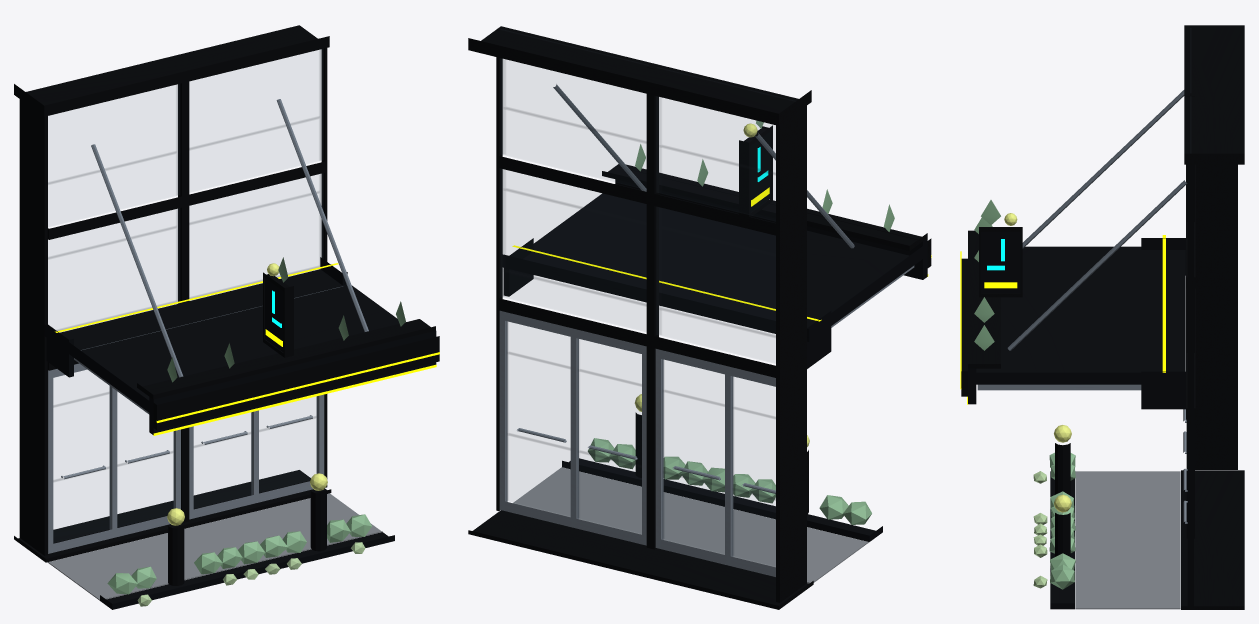
3 views of the same model, side by side, from view 1: azimuth 30°, elevation 25°; view 2: azimuth 150°, elevation 25°; view 3: azimuth 270°, elevation 25° (orthographic). The views are drawn at different scales.
Parts seen in each view (by area): view 1: Frame, Canopy, Fascia_Gunmetal, Threshold_Mat, Door_Stiles, Hedge_Edge, Terrace_Kerb, Fascia_Slate, Tie_Rods, Court_Line_LED, Ball_Bollards, Blade_Frame (+9 smaller); view 2: Frame, Canopy, Door_Stiles, Threshold_Mat, Fascia_Gunmetal, Hedge_Edge, Terrace_Kerb, Glass_Upper_10, Fascia_Slate, Glass_Upper_00, Blade_Frame, Tie_Rods (+10 smaller); view 3: Frame, Canopy, Threshold_Mat, Fascia_Gunmetal, Tie_Rods, Blade_Core, Hedge_Edge, Ball_Bollards, Canopy_Soffit, Terrace_Kerb, Court_Line_LED, Hedge_Edge_Light (+3 smaller).
Boxes of the visible parts, x1,y1,x2,y2 form: Frame: [14, 25, 331, 562]; Canopy: [44, 257, 399, 412]; Fascia_Gunmetal: [137, 319, 439, 430]; Threshold_Mat: [47, 493, 382, 600]; Door_Stiles: [48, 363, 324, 553]; Hedge_Edge: [107, 514, 372, 594]; Terrace_Kerb: [100, 532, 394, 609]; Fascia_Slate: [149, 330, 436, 434]; Tie_Rods: [91, 99, 368, 377]; Court_Line_LED: [55, 263, 439, 435]; Ball_Bollards: [168, 490, 326, 585]; Blade_Frame: [263, 272, 293, 357]; Frame: [468, 26, 813, 609]; Canopy: [502, 184, 923, 368]; Door_Stiles: [499, 310, 775, 576]; Threshold_Mat: [513, 467, 869, 583]; Fascia_Gunmetal: [602, 164, 931, 267]; Hedge_Edge: [587, 438, 871, 524]; Terrace_Kerb: [562, 458, 882, 541]; Glass_Upper_10: [500, 169, 646, 306]; Fascia_Slate: [615, 166, 927, 279]; Glass_Upper_00: [656, 207, 775, 338]; Blade_Frame: [739, 125, 772, 217]; Tie_Rods: [553, 84, 854, 248]; Frame: [1181, 25, 1244, 609]; Canopy: [976, 238, 1185, 409]; Threshold_Mat: [1075, 471, 1180, 609]; Fascia_Gunmetal: [961, 230, 1000, 396]; Tie_Rods: [1007, 90, 1187, 350]; Blade_Core: [981, 231, 1020, 293]; Hedge_Edge: [1049, 452, 1075, 589]; Ball_Bollards: [1055, 443, 1070, 556]; Canopy_Soffit: [977, 384, 1141, 390]; Terrace_Kerb: [1050, 471, 1074, 609]; Court_Line_LED: [960, 235, 1165, 404]; Hedge_Edge_Light: [1033, 471, 1047, 588].
Bounding box in the file's own units: 4 × 6.1 × 3.44.
Materials: 11 (5 with a texture image).
